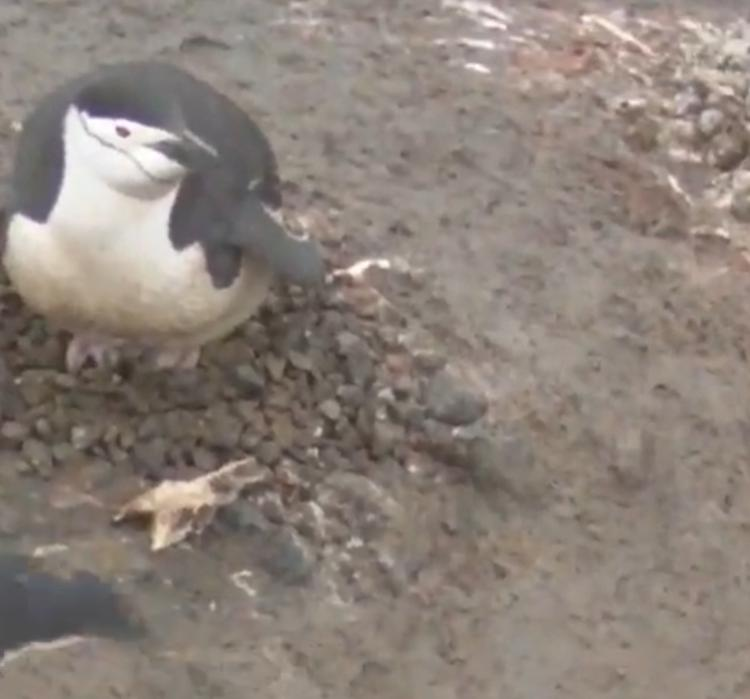Chinstrap Penguin: (0, 43, 335, 365), (0, 380, 277, 699)
